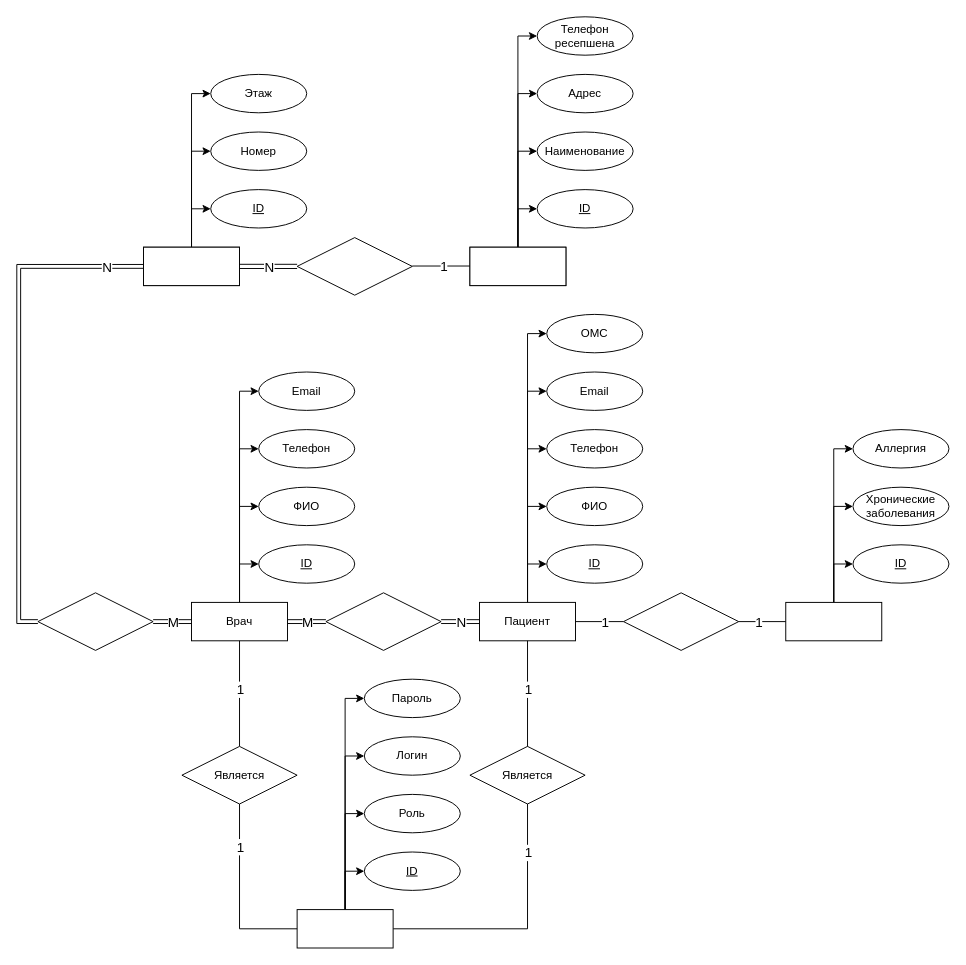
This 966x965 diagram has some shape labels left out. The shapes that lost their labels are listed below. From the top down, each one's box as (x1, y1, x2, y2) in pixels, then its label:
(143, 246, 240, 286): Кабинет
(296, 237, 412, 295): Находится
(469, 246, 566, 286): Филиал
(37, 592, 153, 650): Работает
(325, 592, 441, 650): Записан
(623, 592, 739, 650): Имеет
(785, 601, 882, 641): Медицинская карта
(296, 909, 393, 948): Пользователь
